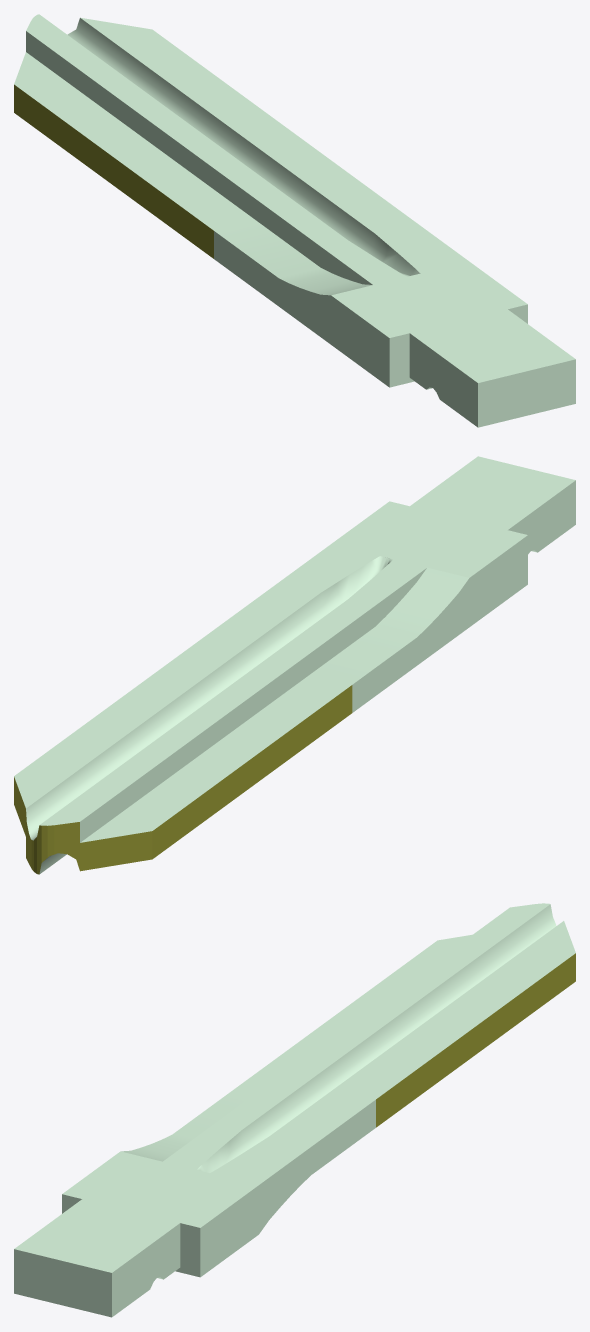
The picture shows the model from 3 angles, top to bottom: view 1: azimuth 30°, elevation 25°; view 2: azimuth 150°, elevation 25°; view 3: azimuth 330°, elevation 25°; orthographic projection.
Bounding box in the file's own units: 8.2 × 2.8 × 50.02.
